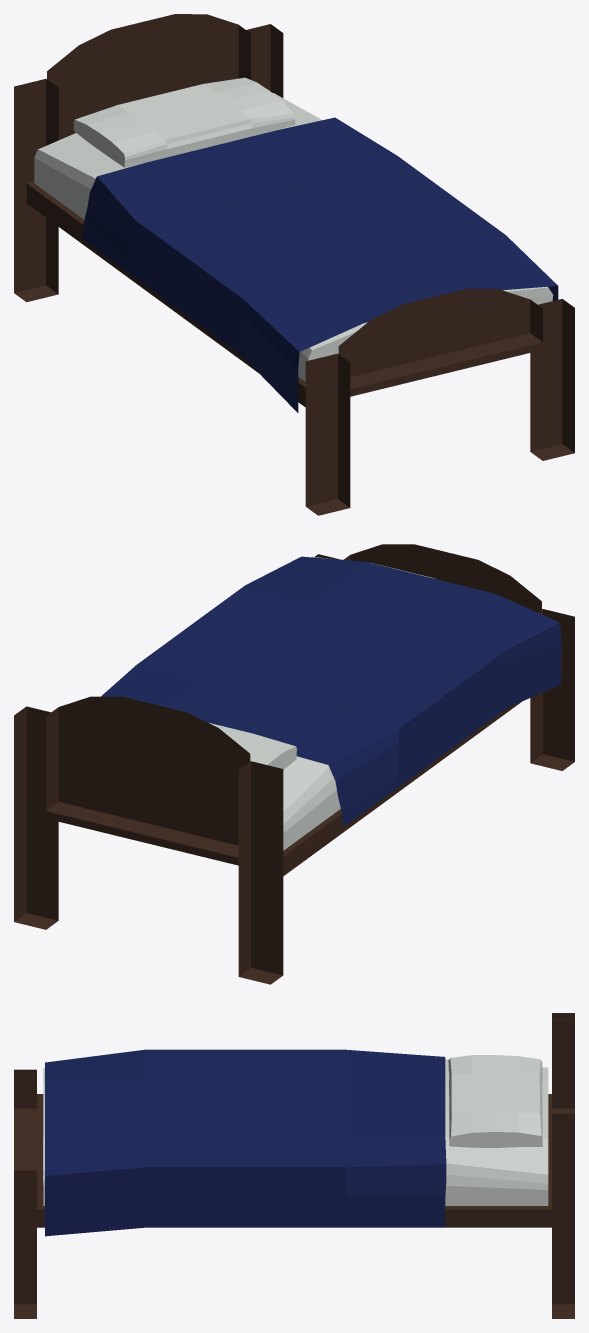
The model's file is Bed.glb.
3 renders of one model, top to bottom at view 1: azimuth 30°, elevation 25°; view 2: azimuth 150°, elevation 25°; view 3: azimuth 270°, elevation 25°, orthographic. The views are drawn at different scales.
Parts seen in each view (by area): view 1: Bed; view 2: Bed; view 3: Bed.
Boxes of the visible parts, x1,y1,x2,y2 form: Bed: (14,14,574,515); Bed: (14,544,574,984); Bed: (14,1013,574,1318).
Bounding box in the file's own units: 3.02 × 2.64 × 6.07.
